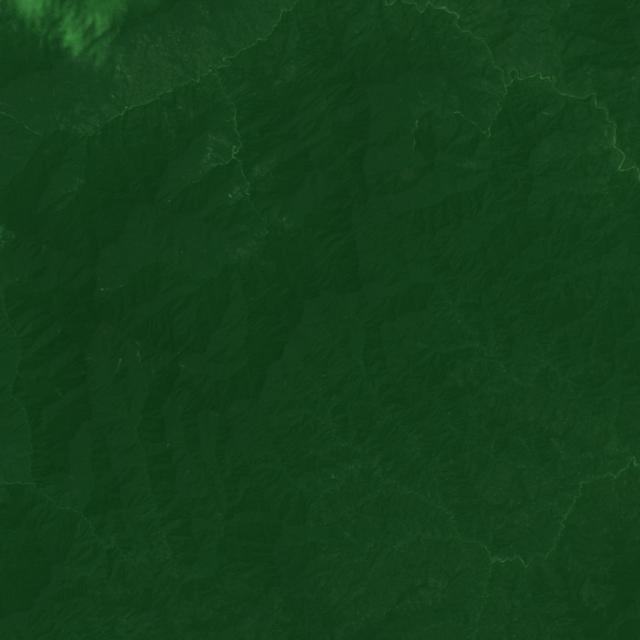landslides: (137, 341, 142, 361)
